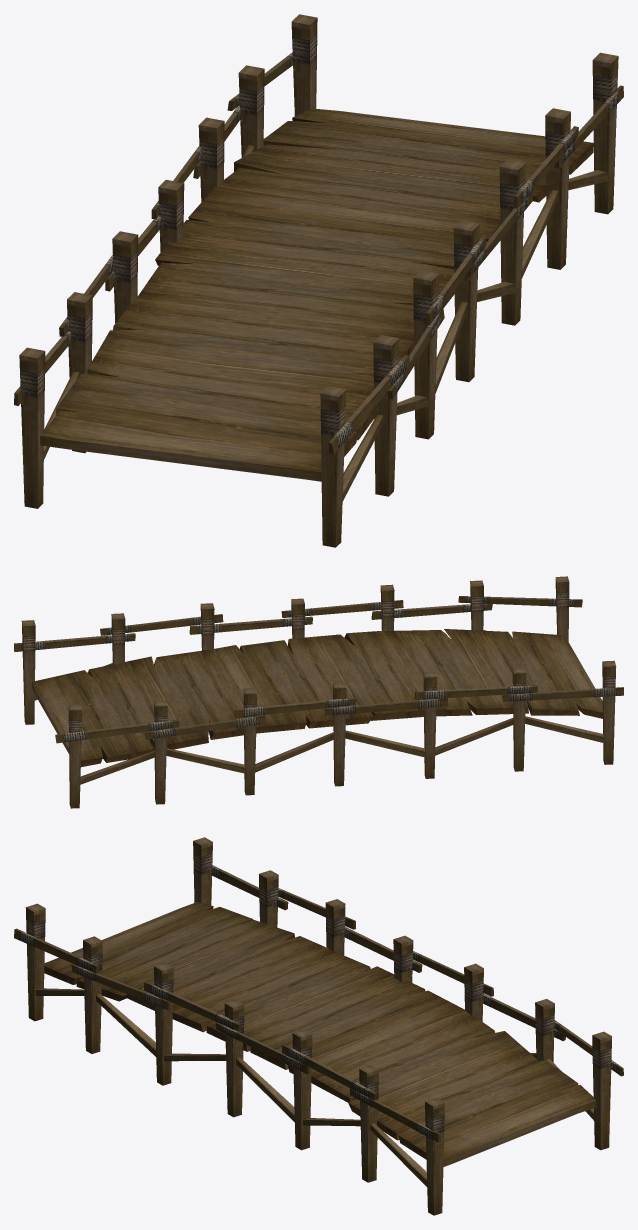
File: xsz_muqiao_1.FBX
3 views of the same model, one above another, from view 1: azimuth 30°, elevation 25°; view 2: azimuth 150°, elevation 25°; view 3: azimuth 270°, elevation 25° (orthographic). The views are drawn at different scales.
Parts seen in each view (by area): view 1: xsz_muqiao_1; view 2: xsz_muqiao_1; view 3: xsz_muqiao_1.
Part boxes in pixels (x1,y1,x2,y2): xsz_muqiao_1: [14, 14, 623, 547]; xsz_muqiao_1: [14, 576, 623, 808]; xsz_muqiao_1: [14, 837, 623, 1215].
Size of the model in its own units: 1605 by 1503 by 317.
